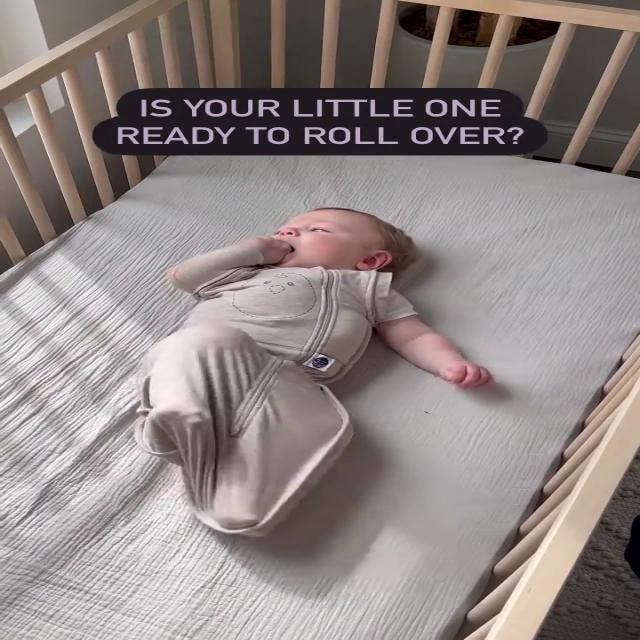baby: (136, 200, 502, 550)
